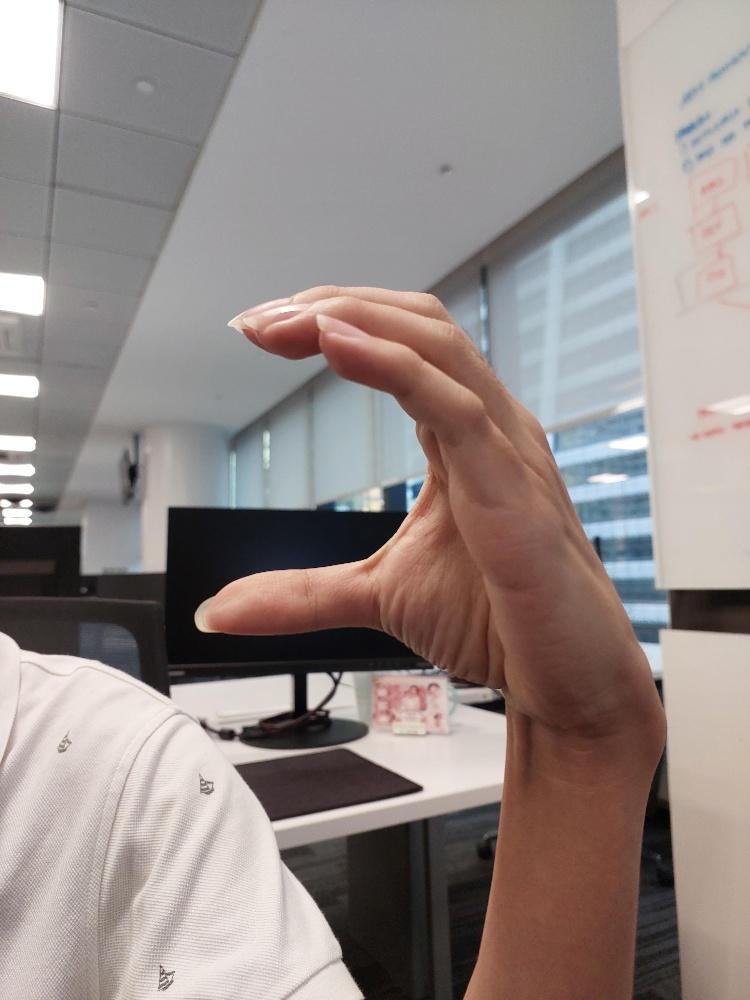c: (191, 279, 661, 731)
